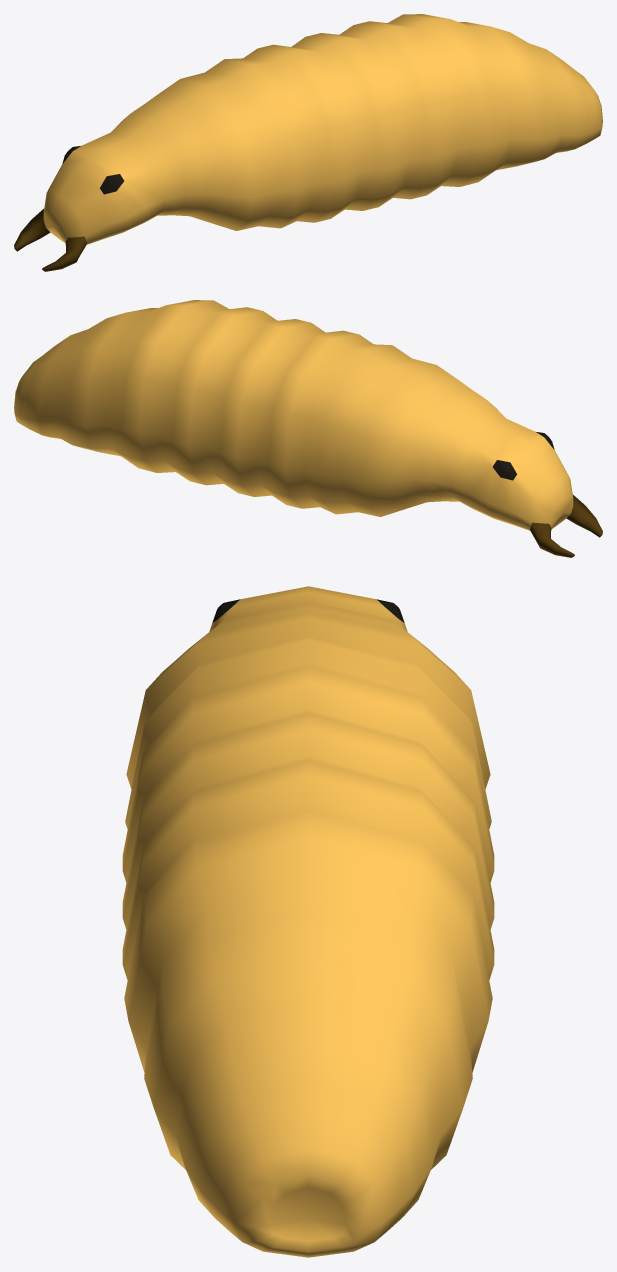
The model's file is 3D_ENVLOOT_001.FBX.
3 views of the same model, one above another, from view 1: azimuth 30°, elevation 25°; view 2: azimuth 150°, elevation 25°; view 3: azimuth 270°, elevation 25° (orthographic). The views are drawn at different scales.
Visible parts, largest first — view 1: LarvaLoot; view 2: LarvaLoot; view 3: LarvaLoot.
Part boxes in pixels (x1,y1,x2,y2): LarvaLoot: [14, 14, 602, 271]; LarvaLoot: [14, 300, 602, 557]; LarvaLoot: [122, 586, 494, 1257].
Bounding box in the file's own units: 51.73 × 13.86 × 14.84.
